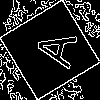A: (25, 25, 78, 69)
